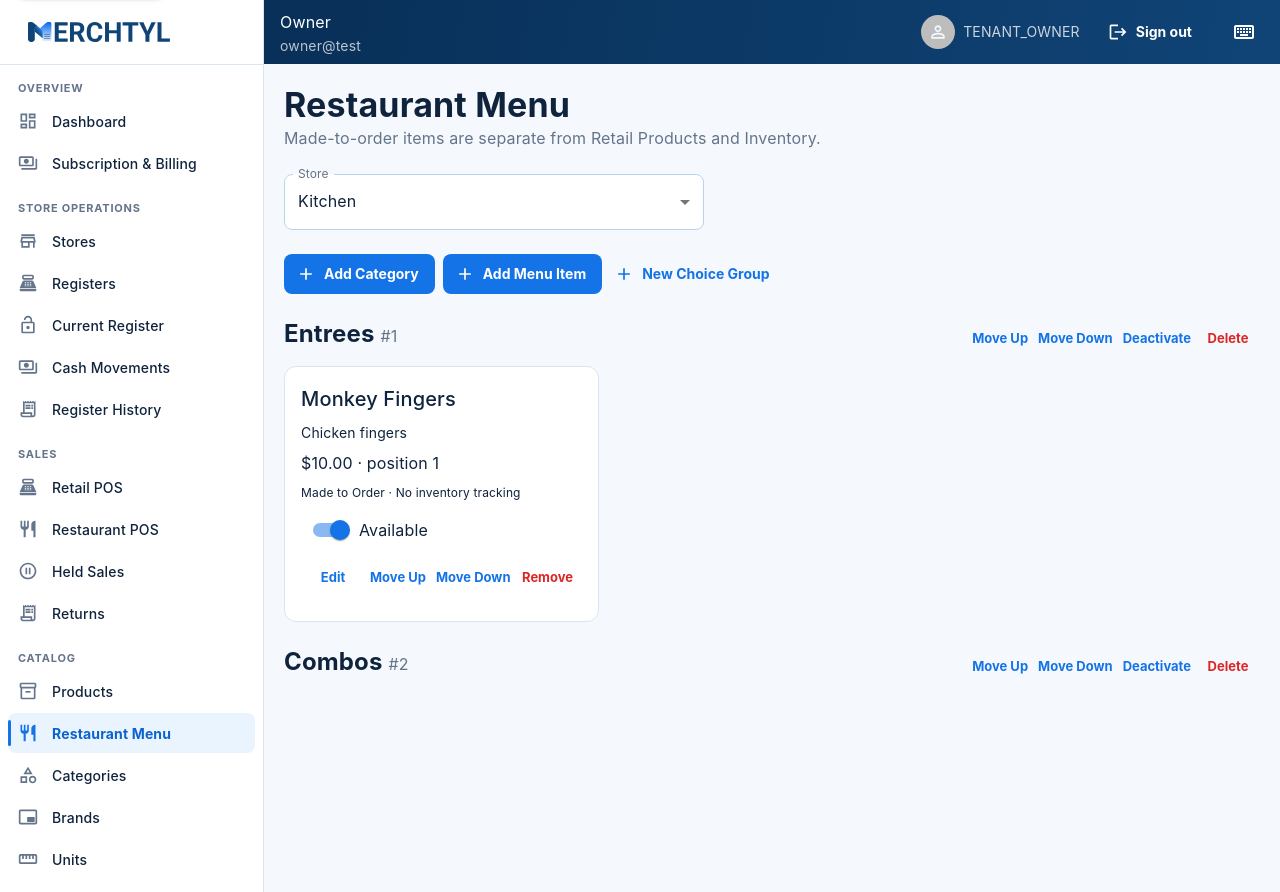
Food menu management › edits core fields and complete configuration from the menu item card
Expected: the heading "Monkey Fingers" is shown, [301,387,456,411]
Click the button "Edit". click: (333, 577)
box: [301,557,365,597]
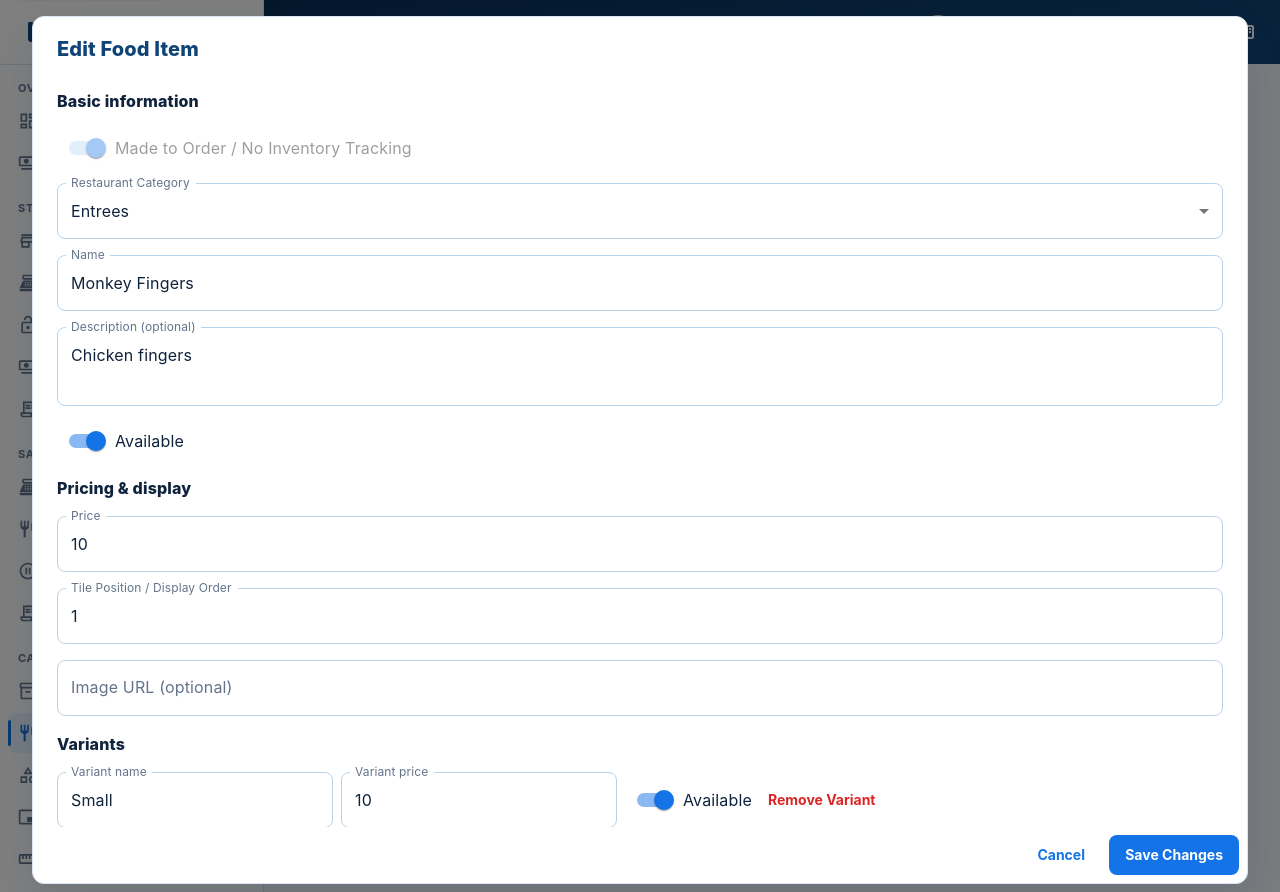
Result: the dialog "Edit Food Item" is shown
Result: the field labelled "Name" holds "Monkey Fingers" at [57,255,1223,311]
Result: the text box labelled "Description (optional)" holds "Chicken fingers"
Replace the text in the text box labelled "Description (optional)" with "Crispy chicken fingers". click: (640, 366)
box: [71,344,1209,390]
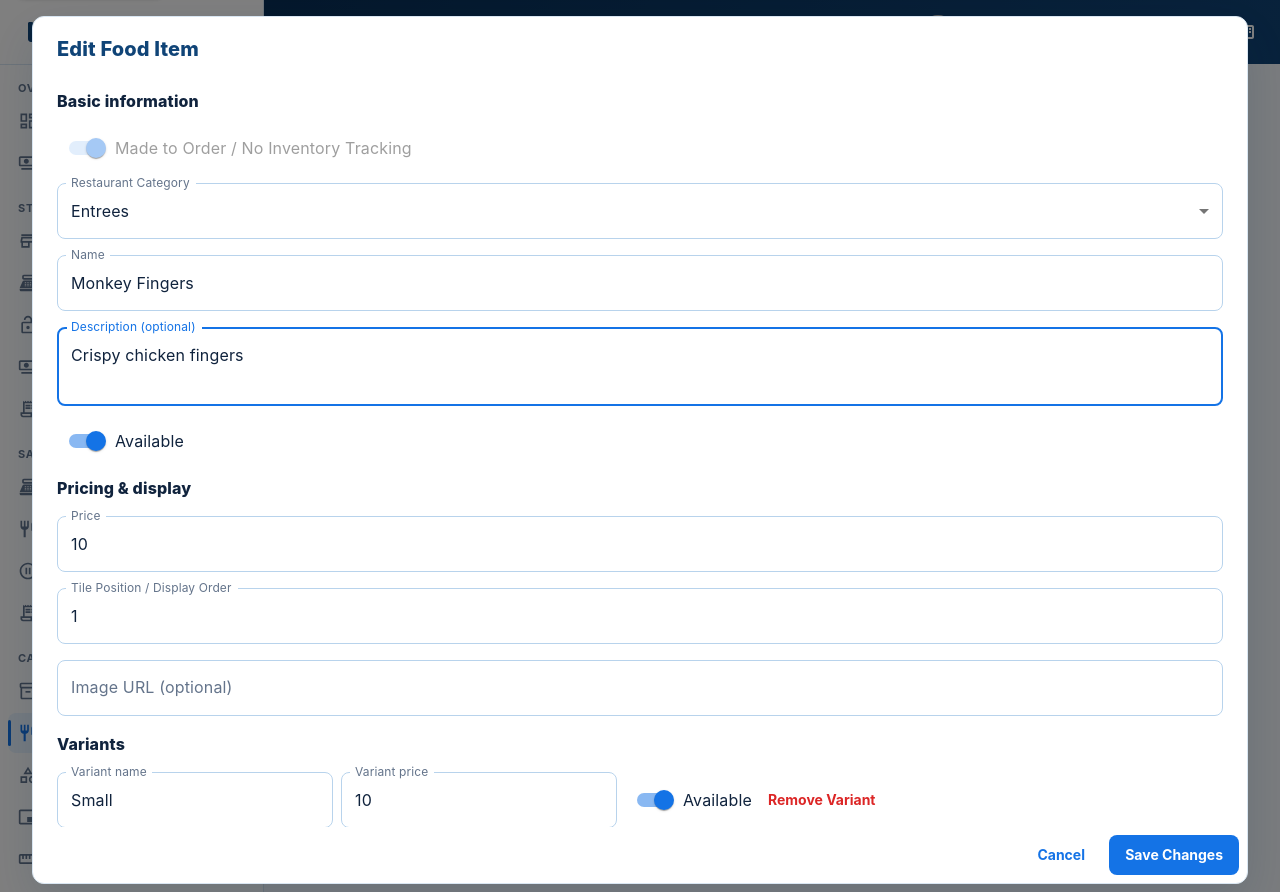
Replace the text in the number field labelled "Price" with "11". click: (640, 544)
box: [57,516,1223,572]
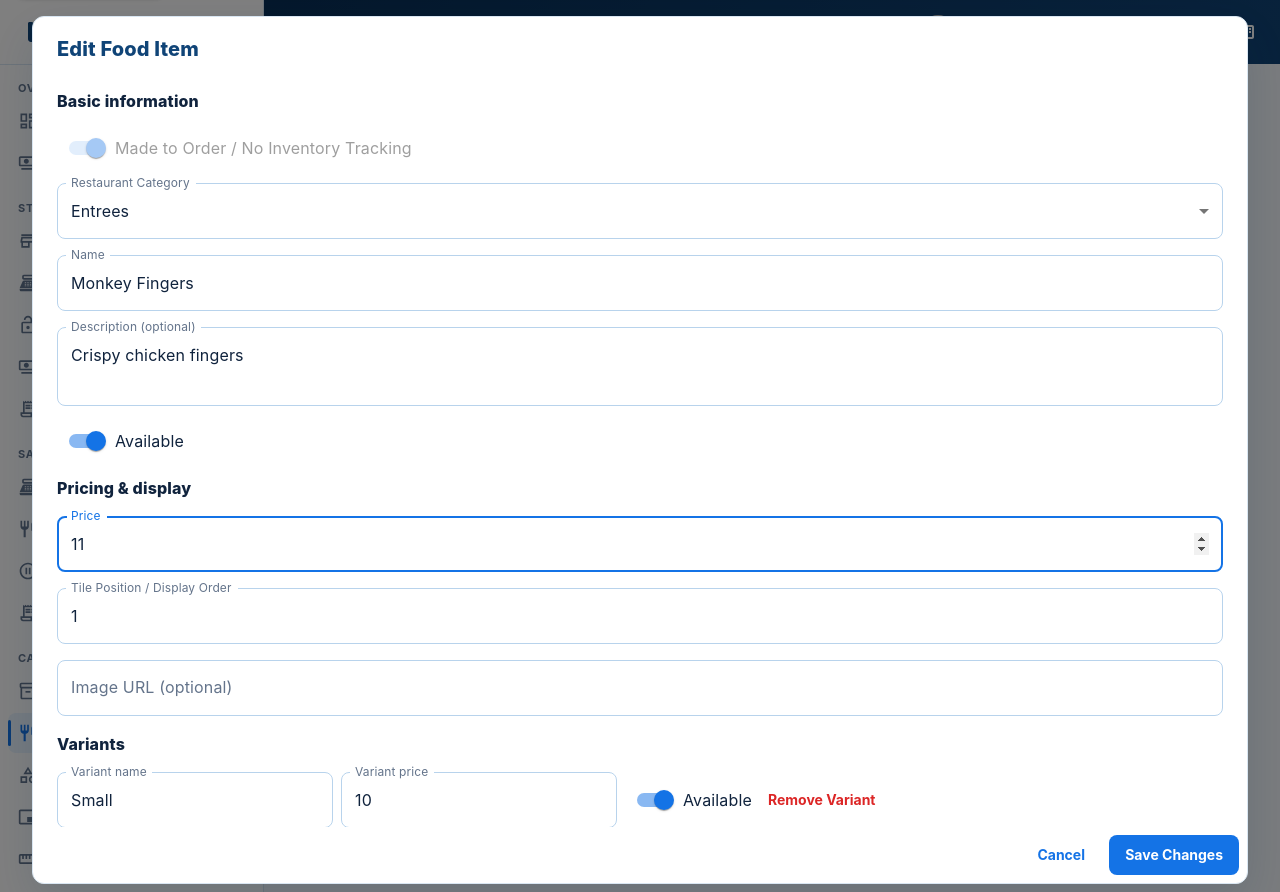
Click the dropdown named "Restaurant Category". click: (100, 210)
box: [71,200,129,220]
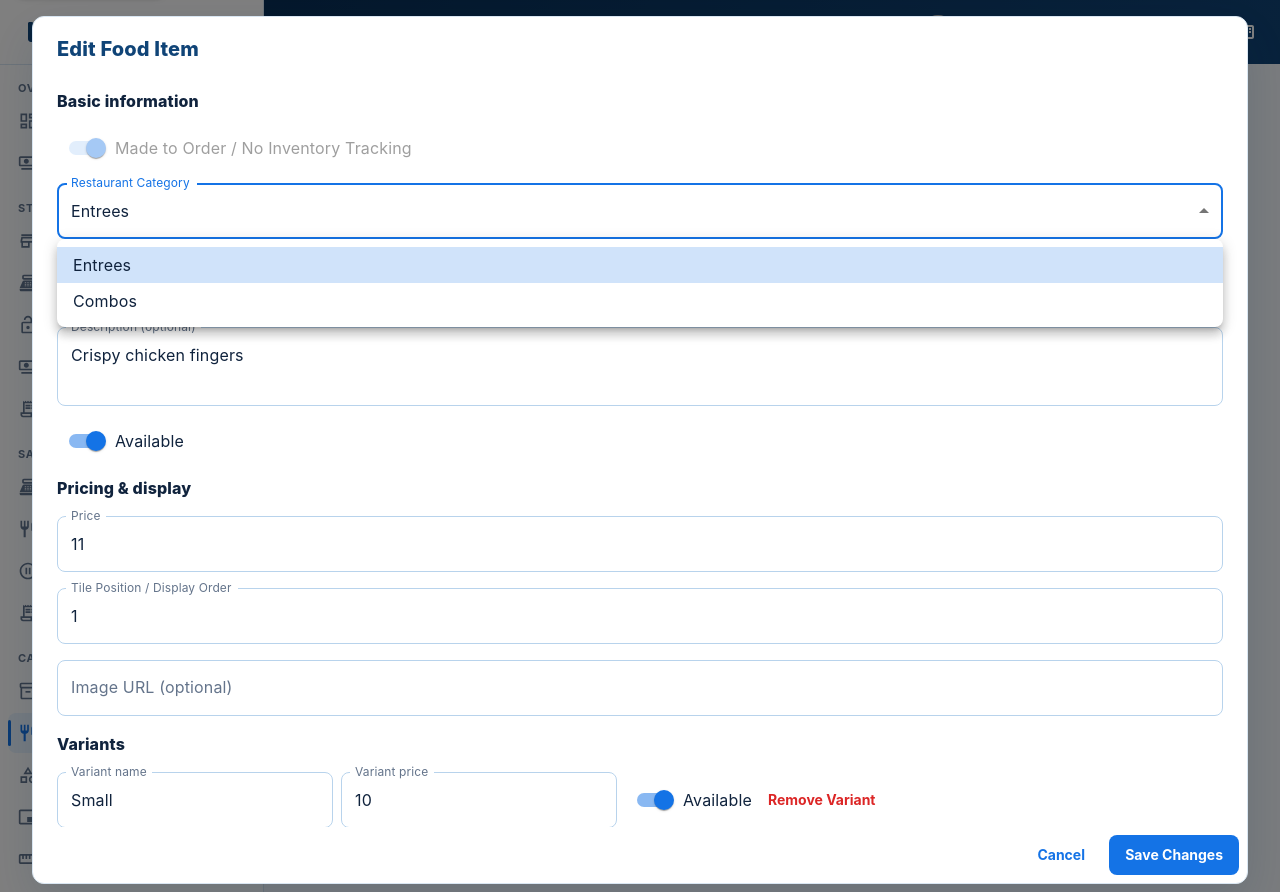
Click the option "Combos". click: (105, 301)
box: [73,291,137,311]
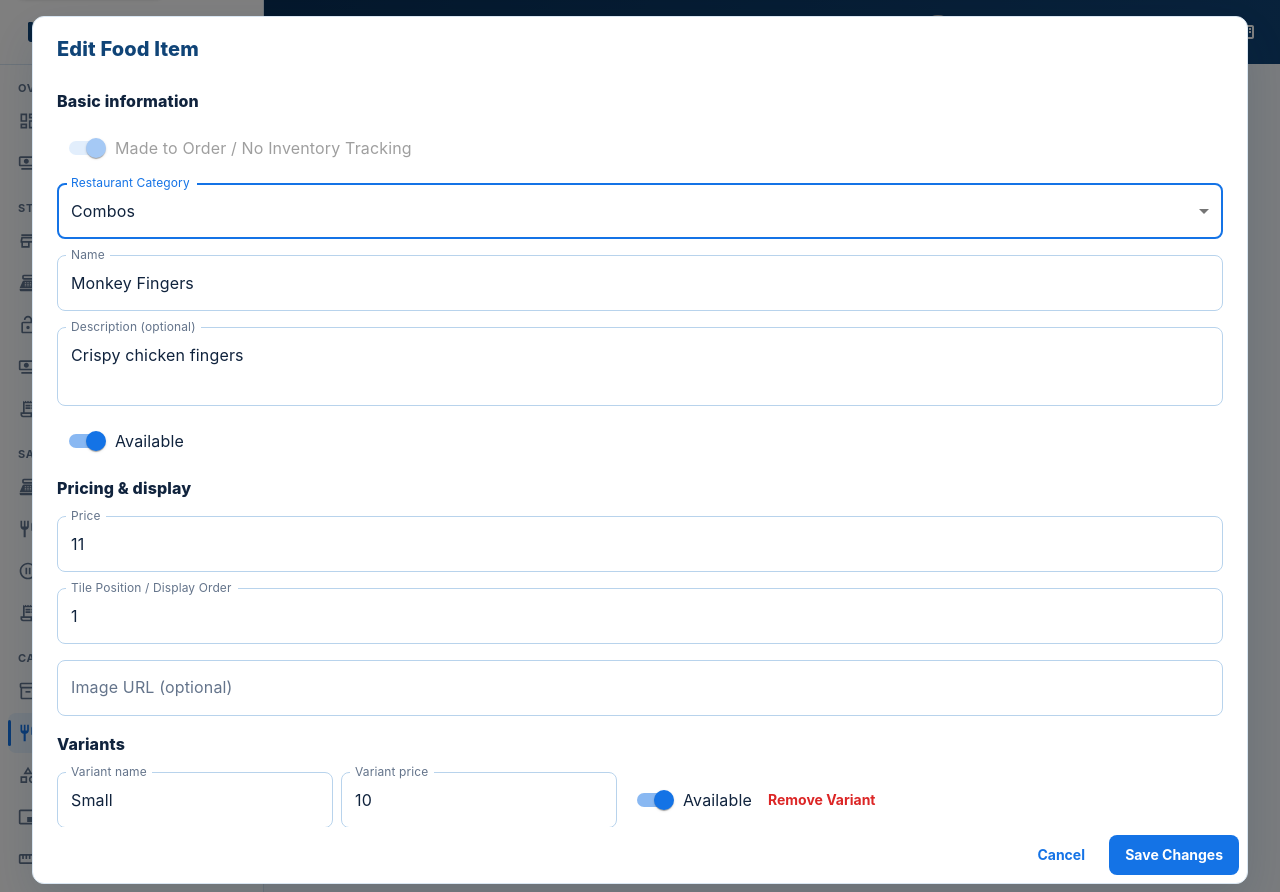
Click the button "Save Changes". click: (1174, 855)
box: [1109,835,1239,875]
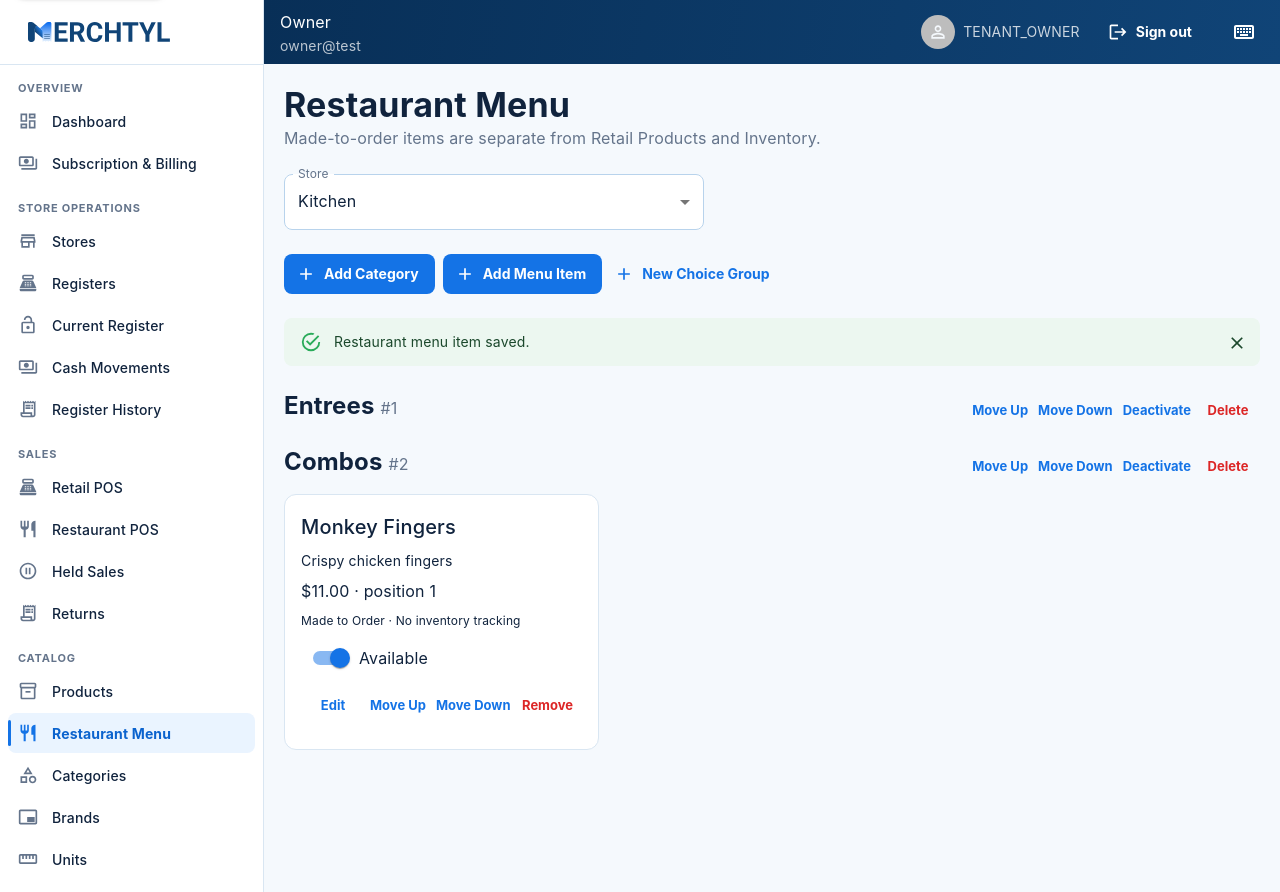
Result: the text "Crispy chicken fingers" is shown at [301,552,452,569]
Result: the text "$11.00 · position 1" is shown at [301,581,436,601]
Result: the text "Restaurant menu item saved." is shown at [334,333,530,350]
